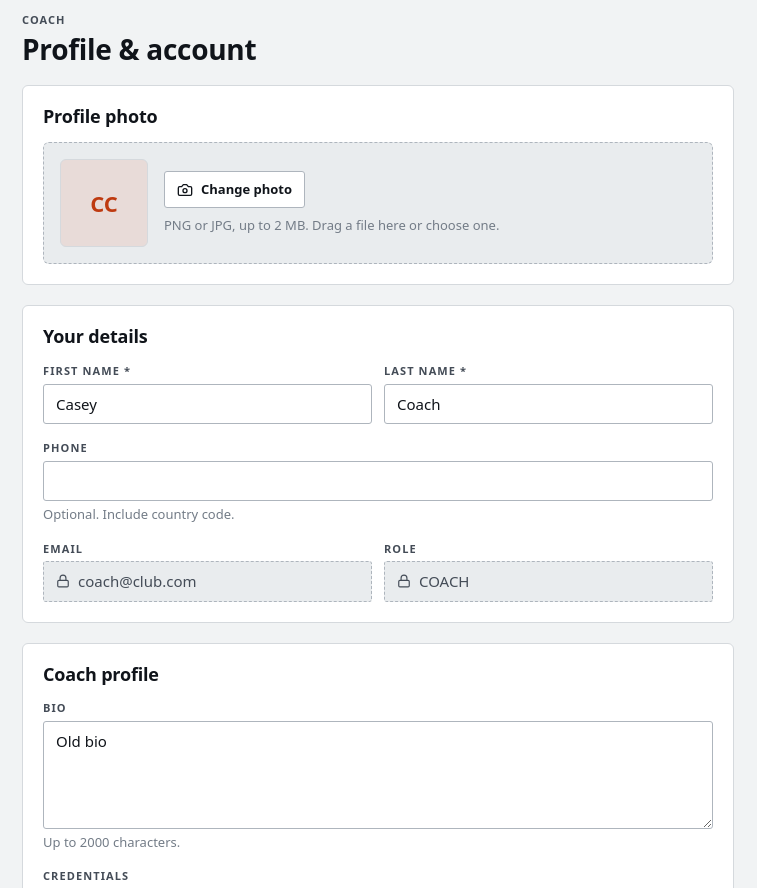
Test case: ProfileSettings (FR-038 role-shaped, FR-032 coach visibility) › submits common + role fields but never read-only fields
Replace the text in the field labelled "First name *" with "Cassidy" at [208, 404], box [43,384,372,424]
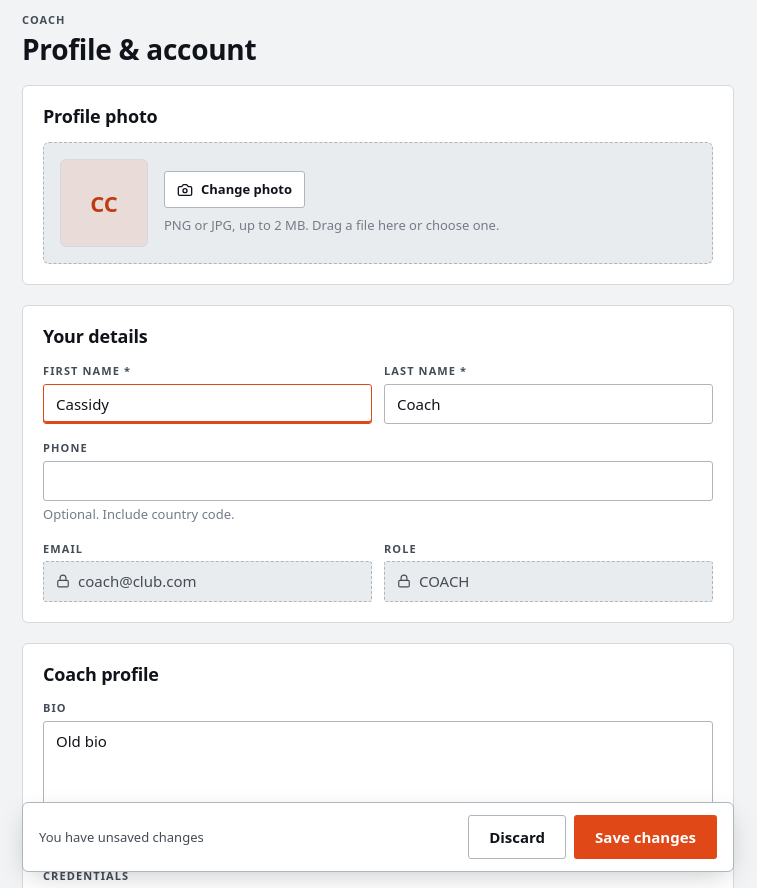
Click the button "Save changes".
click(646, 837)  # box [574,815,717,859]
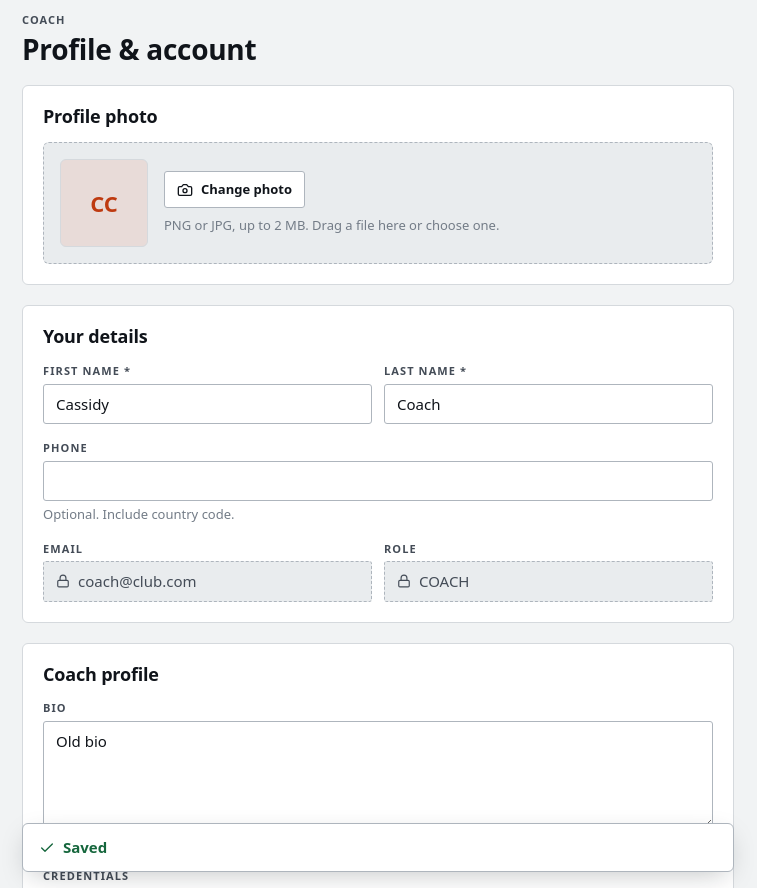
Expected: the text "Saved" is shown, [39,836,107,859]
